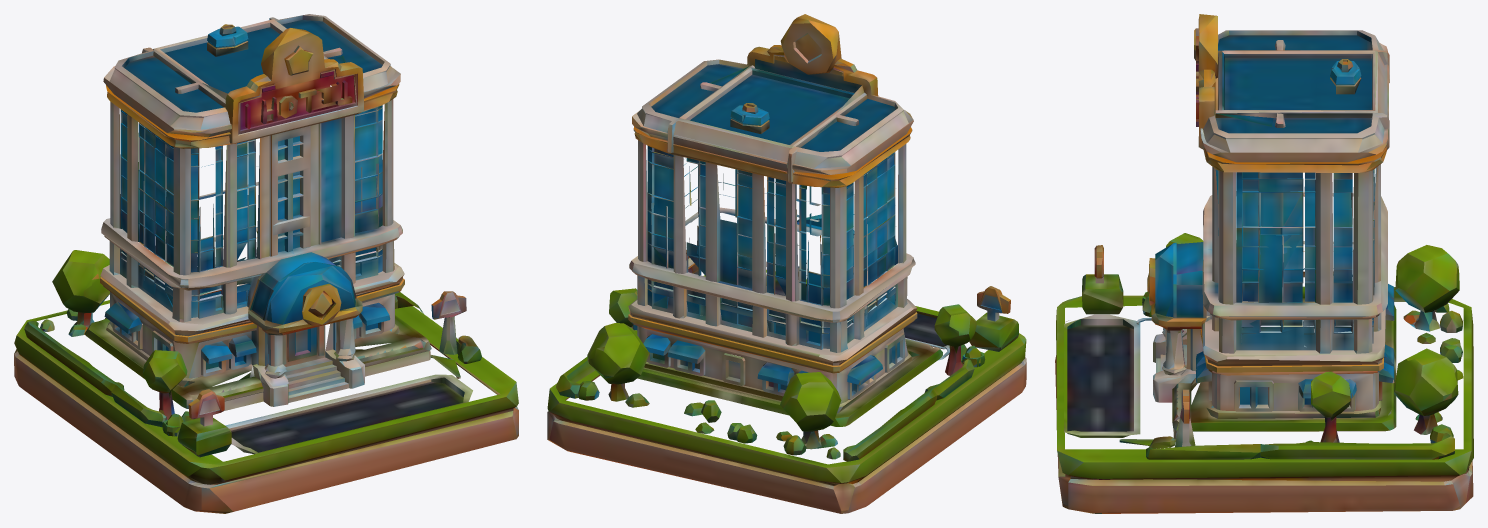
File: hotel_1_lod2.glb
The picture shows the model from 3 angles, left to right: view 1: azimuth 30°, elevation 25°; view 2: azimuth 150°, elevation 25°; view 3: azimuth 270°, elevation 25°; orthographic projection. The views are drawn at different scales.
Visible parts, largest first — view 1: tripo_node_df9ceb89; view 2: tripo_node_df9ceb89; view 3: tripo_node_df9ceb89.
Boxes of the visible parts, box(x1,y1,x2,y2) form: tripo_node_df9ceb89: box(14, 14, 518, 513); tripo_node_df9ceb89: box(547, 14, 1026, 513); tripo_node_df9ceb89: box(1055, 14, 1473, 513).
Size of the model in its own units: 0.8748 by 1 by 0.9149.
Materials: 1 (1 with a texture image).
